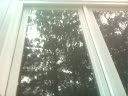window: (26, 8, 81, 96), (117, 8, 128, 72), (107, 8, 116, 47), (98, 10, 106, 25)
